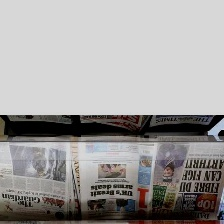news_paper: (72, 140, 150, 223), (148, 140, 224, 224), (0, 141, 75, 222), (75, 114, 151, 135), (148, 113, 215, 128), (5, 113, 74, 126)
